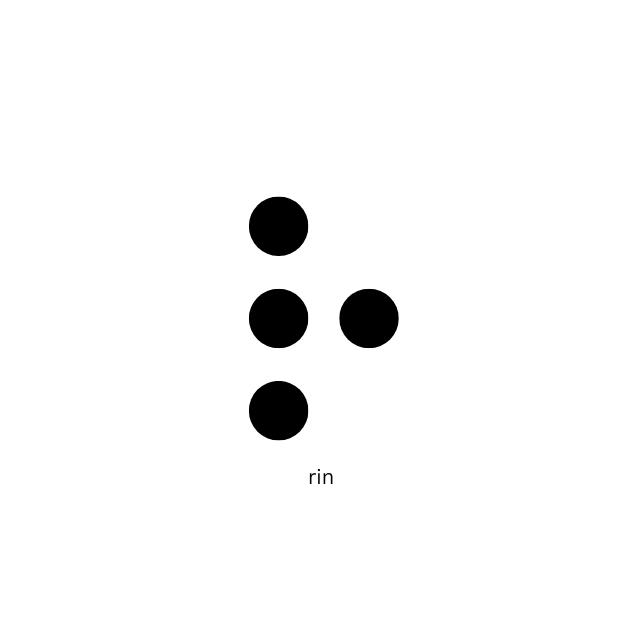one_cell_alphabet_rin: (247, 195, 400, 442)
